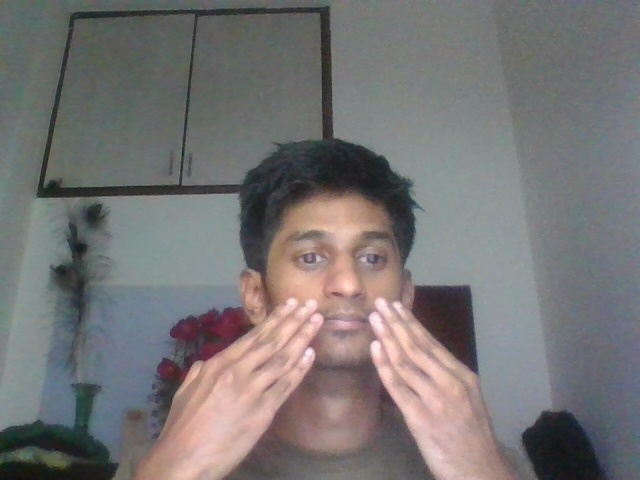Thank You: (124, 284, 541, 475)
